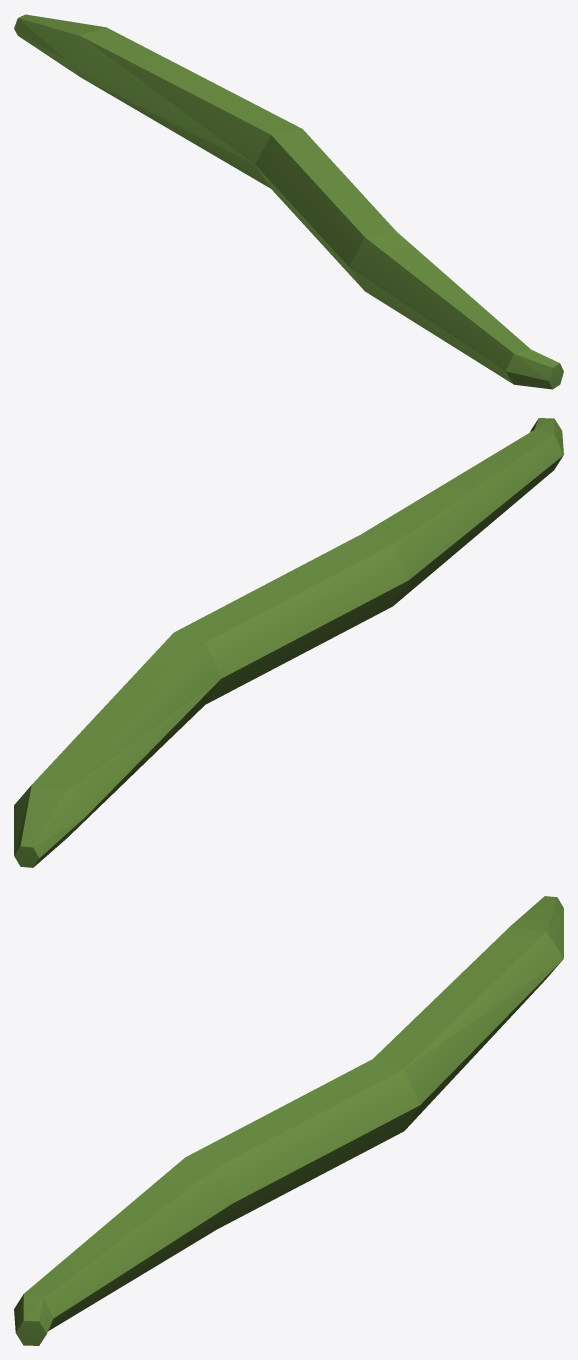
File: Crop_Bean_02.obj
3 views of the same model, one above another, from view 1: azimuth 30°, elevation 25°; view 2: azimuth 150°, elevation 25°; view 3: azimuth 330°, elevation 25° (orthographic). The views are drawn at different scales.
Visible parts, largest first — view 1: Crop_Bean_02; view 2: Crop_Bean_02; view 3: Crop_Bean_02.
Boxes of the visible parts, left/top/right/bottom form: Crop_Bean_02: left=14, top=14, right=563, bottom=389; Crop_Bean_02: left=14, top=418, right=563, bottom=867; Crop_Bean_02: left=14, top=896, right=563, bottom=1345.
Size of the model in its own units: 0.0249 by 0.0128 by 0.2136.
1 material, 1 textured.
